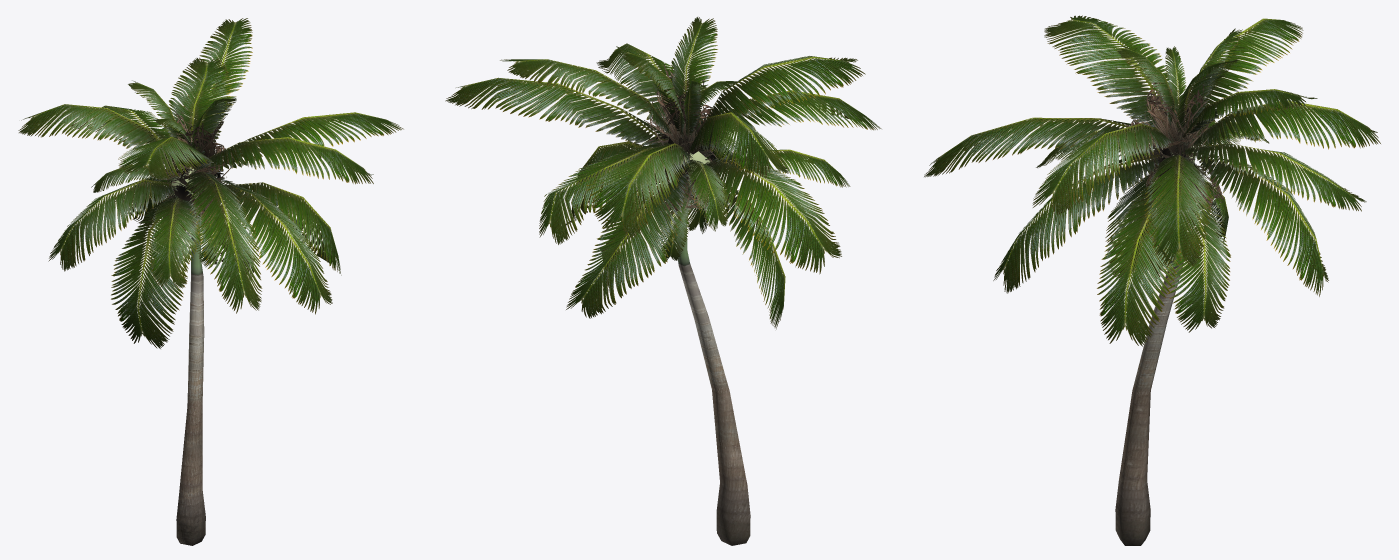
The model's file is Palm Tree.fbx.
The picture shows the model from 3 angles, left to right: view 1: azimuth 30°, elevation 25°; view 2: azimuth 150°, elevation 25°; view 3: azimuth 270°, elevation 25°; orthographic projection. The views are drawn at different scales.
Parts seen in each view (by area): view 1: Palm1_VAR5; view 2: Palm1_VAR5; view 3: Palm1_VAR5.
Boxes of the visible parts, x1=… form: Palm1_VAR5: x1=18, y1=18, x2=403, y2=545; Palm1_VAR5: x1=445, y1=17, x2=881, y2=545; Palm1_VAR5: x1=924, y1=15, x2=1380, y2=545.
Size of the model in its own units: 612 by 743 by 609.
Materials: 1 (1 with a texture image).
